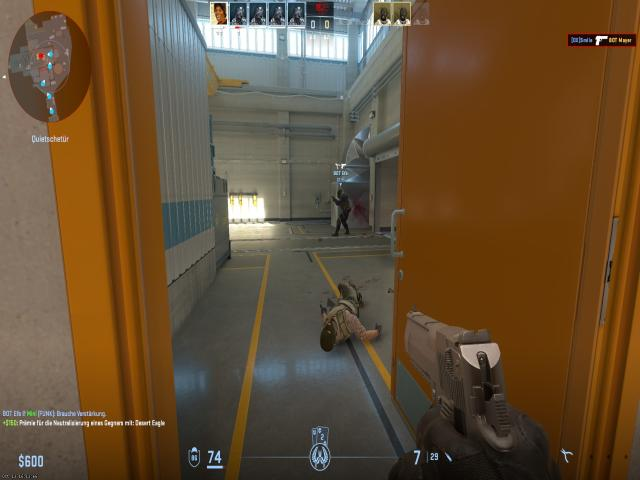CT: (334, 188, 350, 238)
CT-Head: (337, 188, 344, 199)
Dead: (325, 276, 377, 350)
